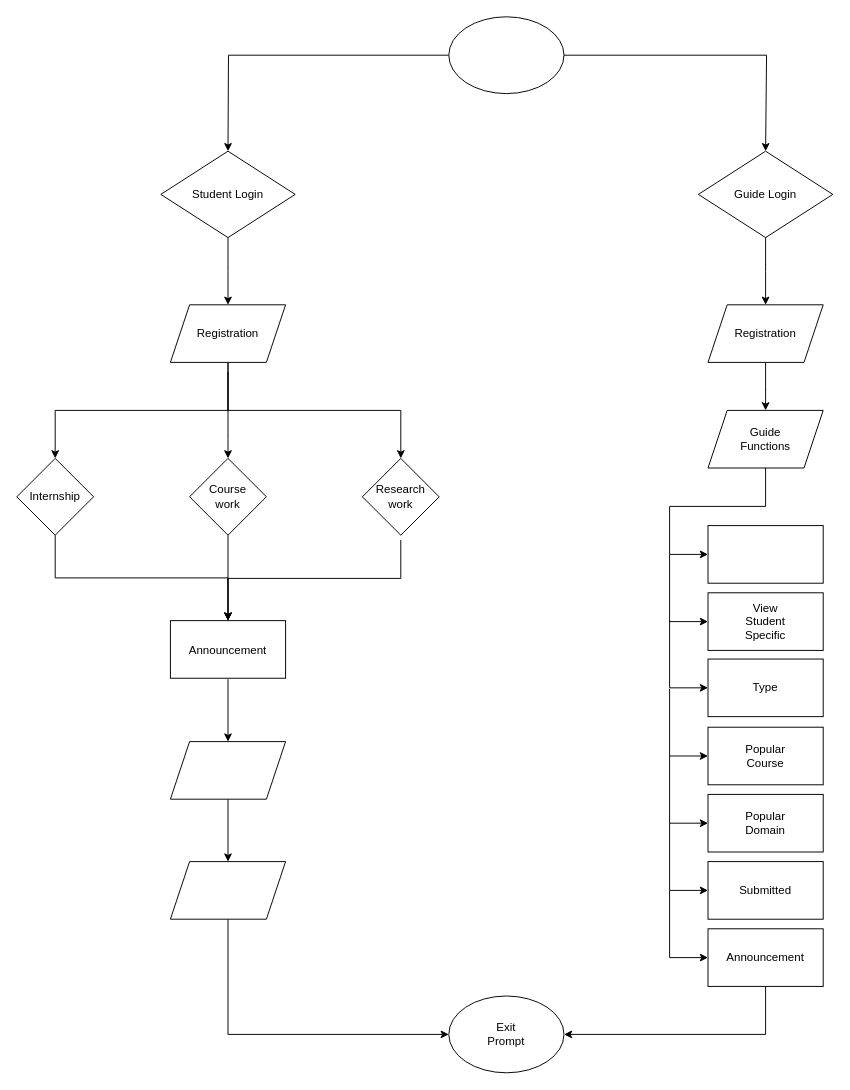
The diagram is 850 pixels wide and 1090 high, and some of its shapes have lost their labels. Each missing label, with the centre of its shape:
"Final Report" goes at point (227, 890).
"View" goes at point (765, 554).
"Weekly Report" goes at point (227, 770).
"Welcome prompt" goes at point (506, 55).
